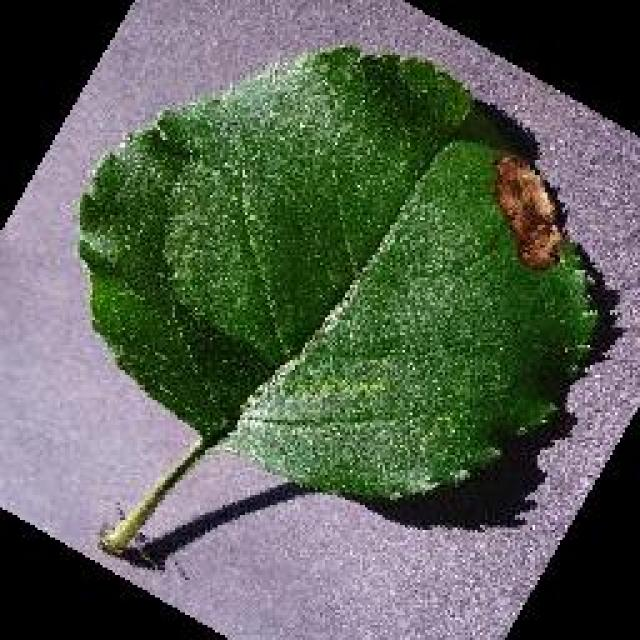Black_rot: (75, 42, 597, 560)
